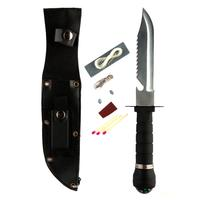knife: (129, 5, 163, 194)
